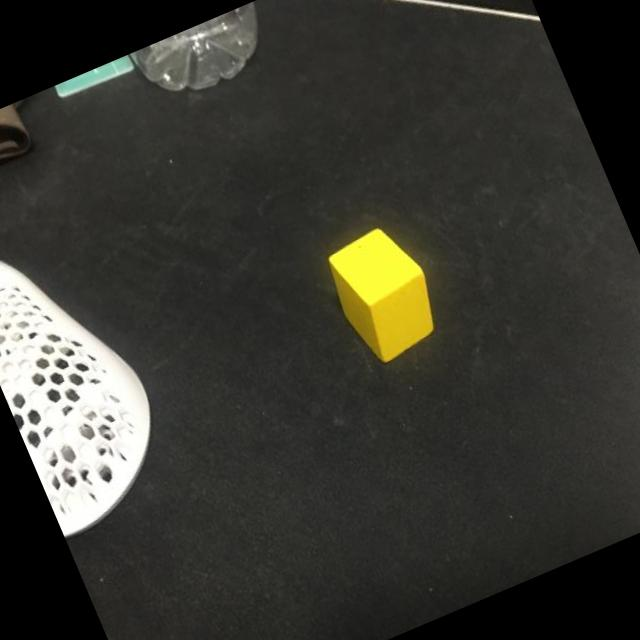yellow: (319, 216, 450, 370)
